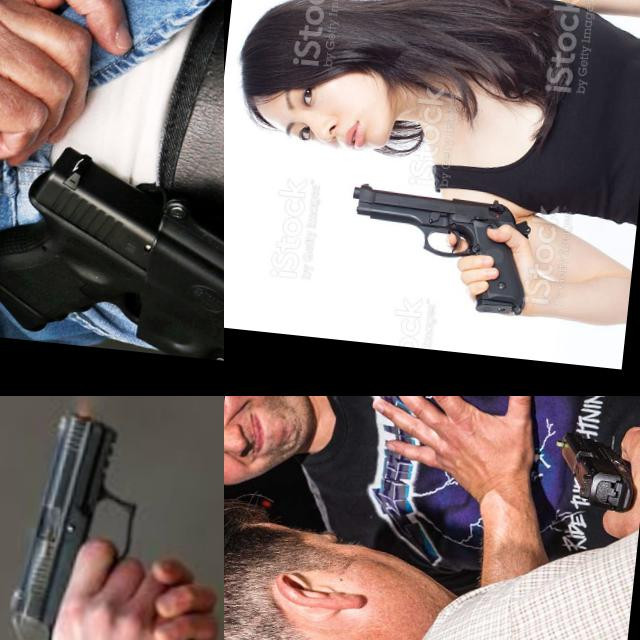handgun: (0, 396, 224, 640), (0, 135, 224, 369), (336, 178, 540, 322), (545, 420, 640, 515)
